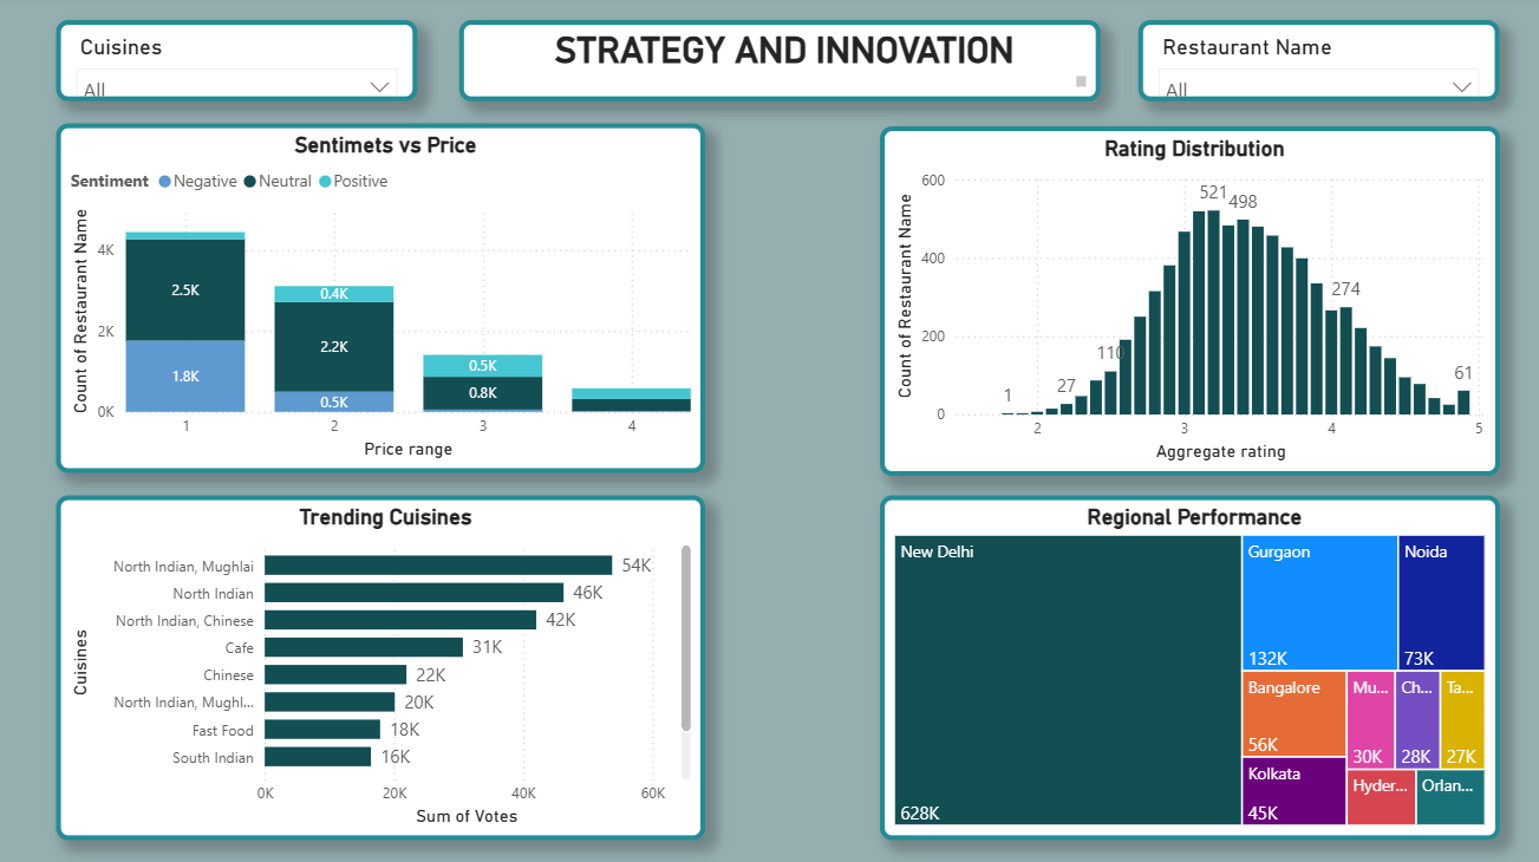

The dashboard page shown, as its layout file describes it:
{"tool":"powerbi","page":{"name":"Page 5","canvas":[1280,720],"ordinal":4},"visuals":[{"type":"columnChart","title":"Sentimets vs Price","fields":{"Category":["zomato.Price range"],"Series":["zomato.Sentiment"],"Y":["CountNonNull(zomato.Restaurant Name)"]},"box":[50.8,105.7,537.9,289.5],"z":0},{"type":"barChart","title":"Trending Cuisines","fields":{"Category":["zomato.Cuisines"],"Y":["Sum(zomato.Votes)"]},"box":[50.8,413,537.9,285.4],"z":1000},{"type":"columnChart","title":"Rating Distribution","fields":{"Category":["zomato.Aggregate rating"],"Y":["CountNonNull(zomato.Restaurant Name)"]},"box":[734.1,107,513.2,289.5],"z":2000},{"type":"treemap","title":"Regional Performance","fields":{"Group":["zomato.City"],"Values":["Sum(zomato.Votes)"]},"box":[734.1,413,513.2,285.4],"z":3000},{"type":"textbox","title":"STRATEGY AND INNOVATION","box":[385.6,19.2,531,67.2],"z":4000},{"type":"slicer","fields":{"Values":["zomato.Cuisines"]},"box":[50.8,19.2,299.1,67.2],"z":5000},{"type":"slicer","fields":{"Values":["zomato.Restaurant Name"]},"box":[948.2,19.2,299.1,67.2],"z":6000}]}

Visuals, with their boxes in screenshot pixels (x1, y1, x2, y2), scaled from the page's 1280x720 canvas onto the 1539x862 screenshot:
"Sentimets vs Price" columnChart: bbox=[61, 127, 708, 473]
"Trending Cuisines" barChart: bbox=[61, 494, 708, 836]
"Rating Distribution" columnChart: bbox=[883, 128, 1500, 475]
"Regional Performance" treemap: bbox=[883, 494, 1500, 836]
"STRATEGY AND INNOVATION" textbox: bbox=[464, 23, 1102, 103]
slicer - zomato.Cuisines: bbox=[61, 23, 421, 103]
slicer - zomato.Restaurant Name: bbox=[1140, 23, 1500, 103]
